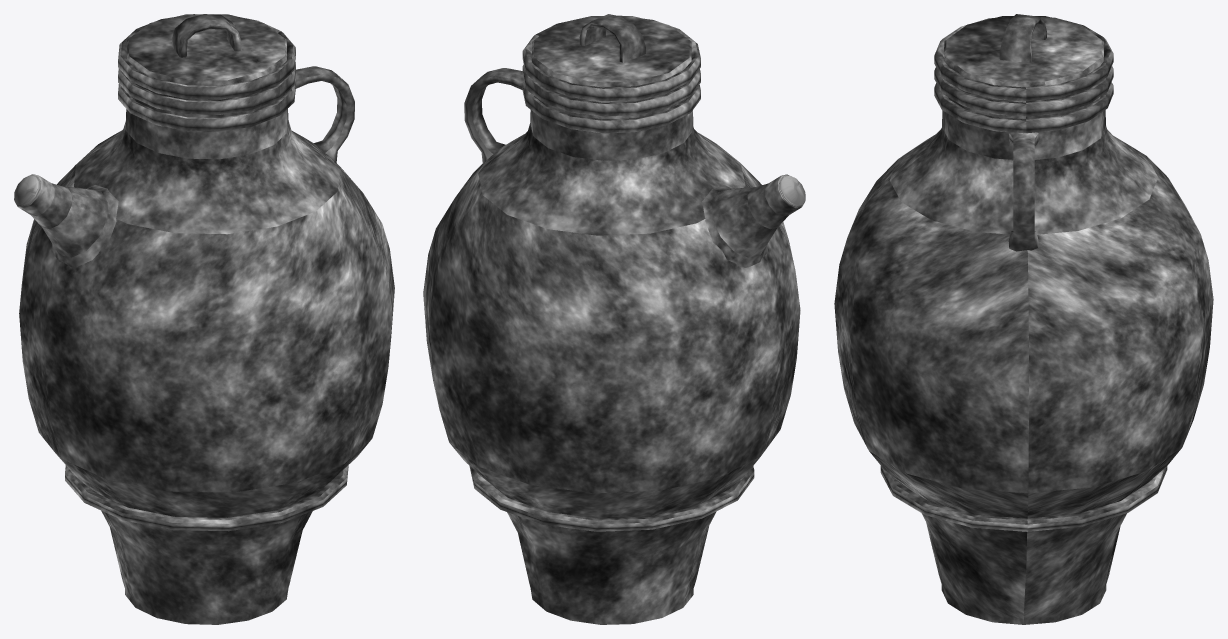
Rendered from SM_vase_03.fbx.
The picture shows the model from 3 angles, left to right: view 1: azimuth 30°, elevation 25°; view 2: azimuth 150°, elevation 25°; view 3: azimuth 270°, elevation 25°; orthographic projection.
Visible parts, largest first — view 1: SM_vase_03_LOD0; view 2: SM_vase_03_LOD0; view 3: SM_vase_03_LOD0.
Boxes of the visible parts, x1,y1,x2,y2 form: SM_vase_03_LOD0: [14, 14, 394, 624]; SM_vase_03_LOD0: [423, 14, 805, 624]; SM_vase_03_LOD0: [834, 14, 1213, 624].
Bounding box in the file's own units: 99.71 × 92.4 × 153.
